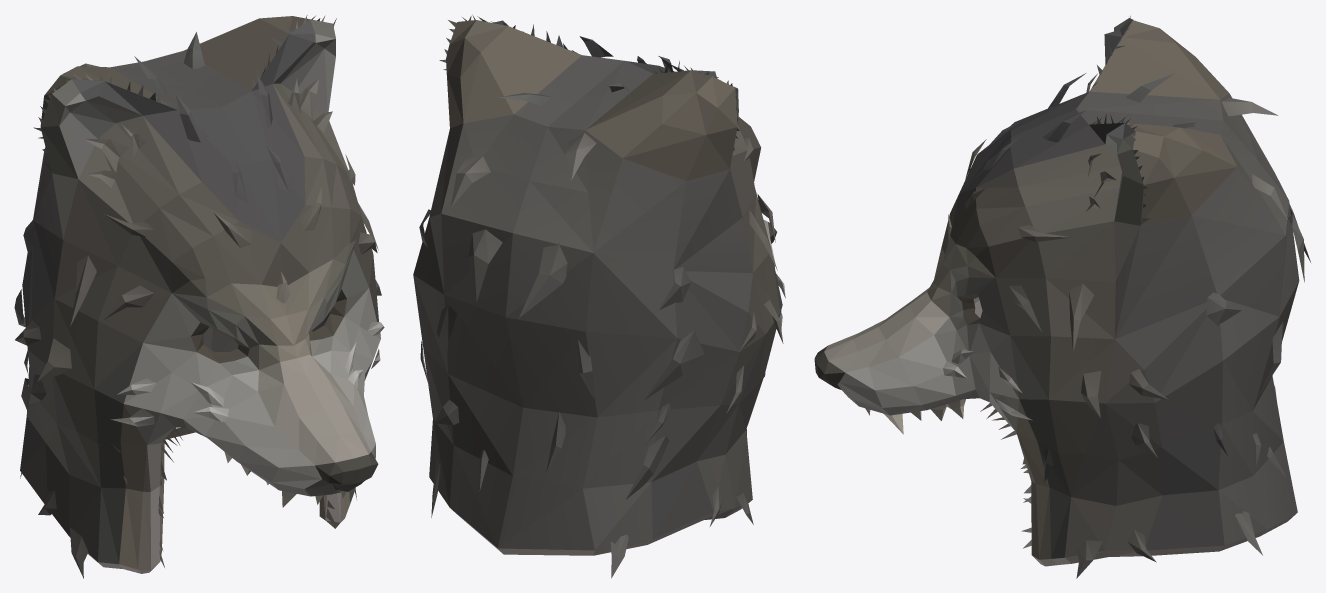
File: vikingArmorWolfFemale.glb
The picture shows the model from 3 angles, left to right: view 1: azimuth 30°, elevation 25°; view 2: azimuth 150°, elevation 25°; view 3: azimuth 270°, elevation 25°; orthographic projection. The views are drawn at different scales.
Parts seen in each view (by area): view 1: vikingArmorWolf; view 2: vikingArmorWolf; view 3: vikingArmorWolf.
Part boxes in pixels (bbox=[...]): vikingArmorWolf: bbox=[14, 15, 384, 578]; vikingArmorWolf: bbox=[413, 15, 785, 578]; vikingArmorWolf: bbox=[814, 16, 1310, 578].
Bounding box in the file's own units: 0.3323 × 0.4404 × 0.4332.
